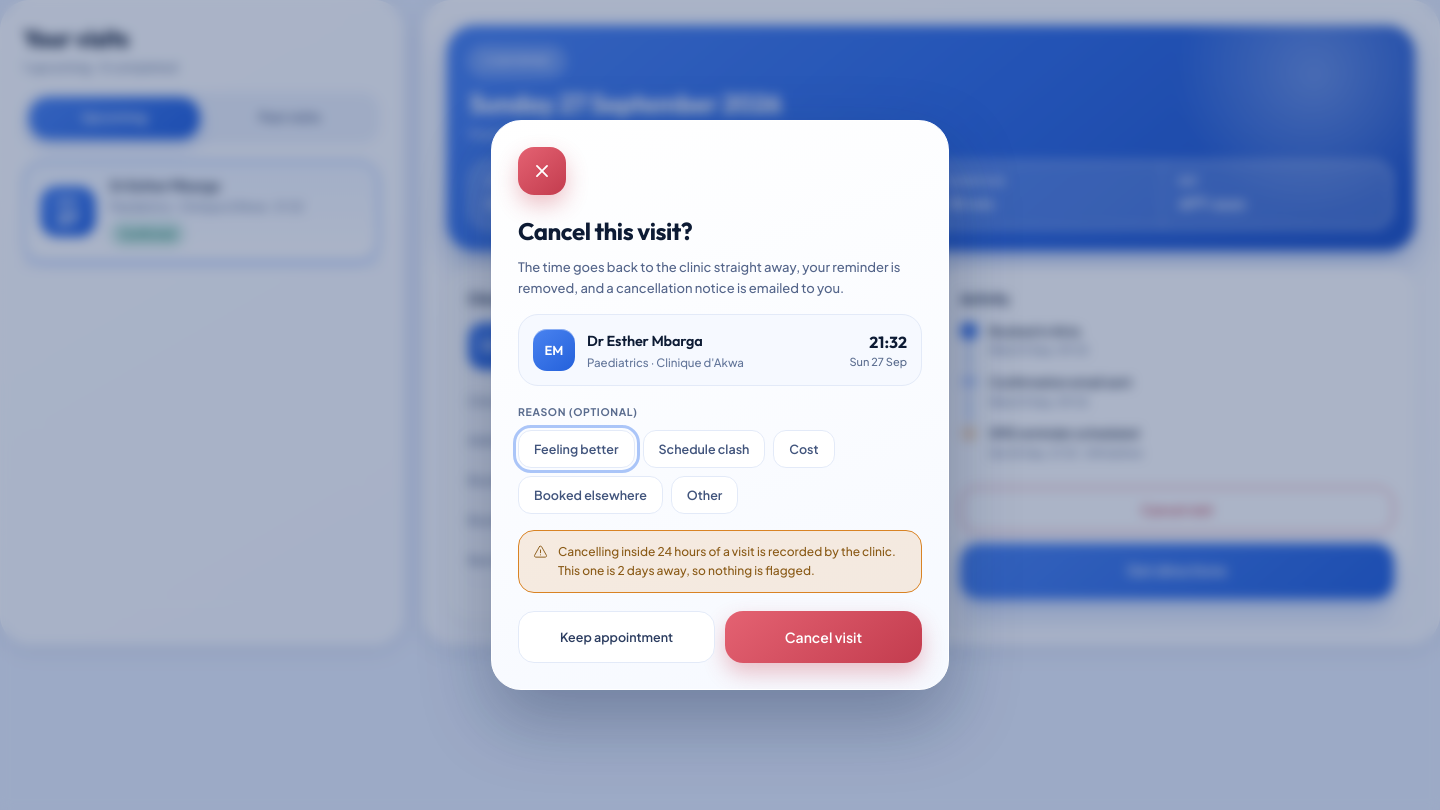
Test: Visits › cancels with the reason chosen, and says so
Click the radio button labelled "Schedule clash". click: (704, 449)
box: [642,430,765,468]
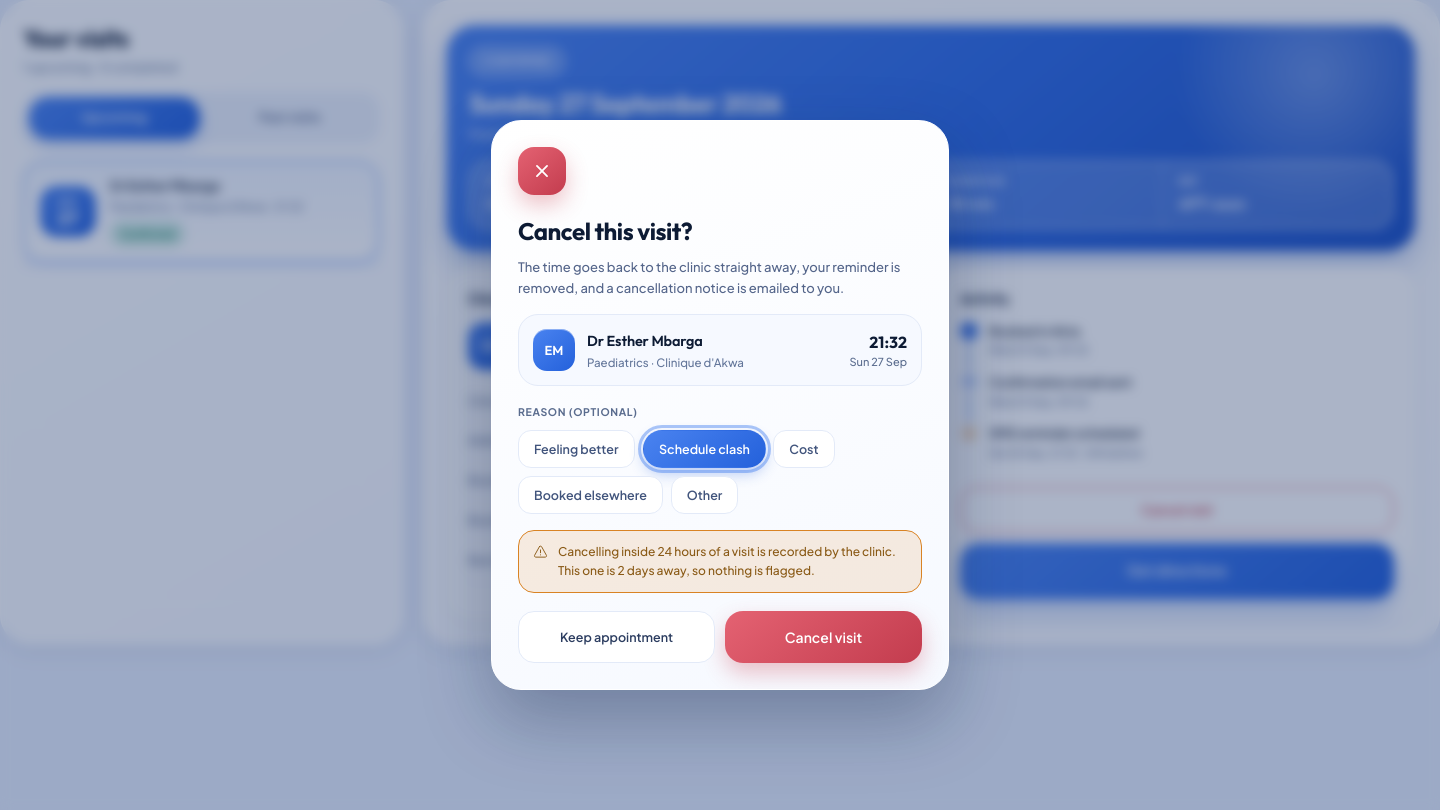
Click the button "Cancel visit". click: (824, 637)
box: [725,611,922,663]
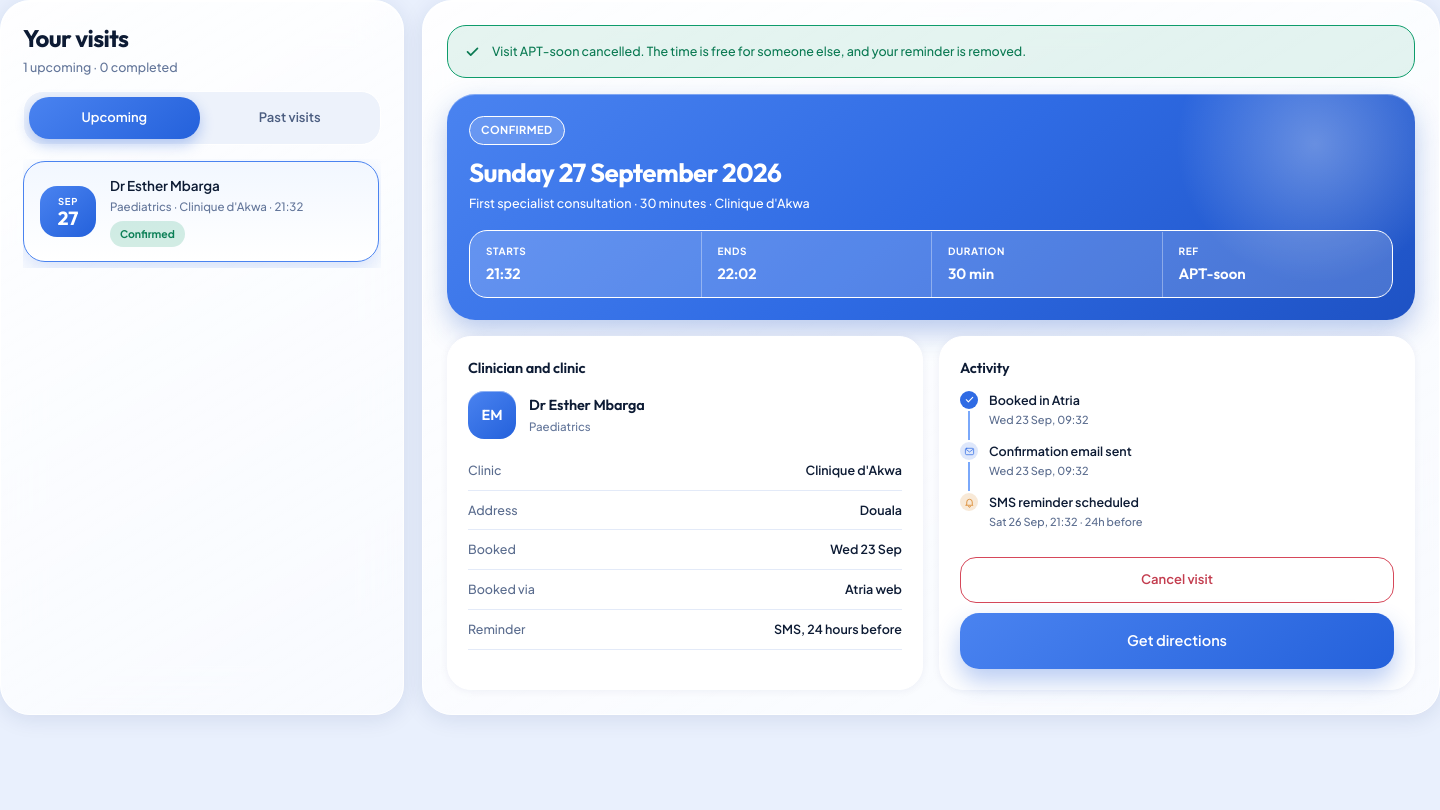
Result: the text "Visit APT-soon cancelled" is shown at [492,43,1026,59]
